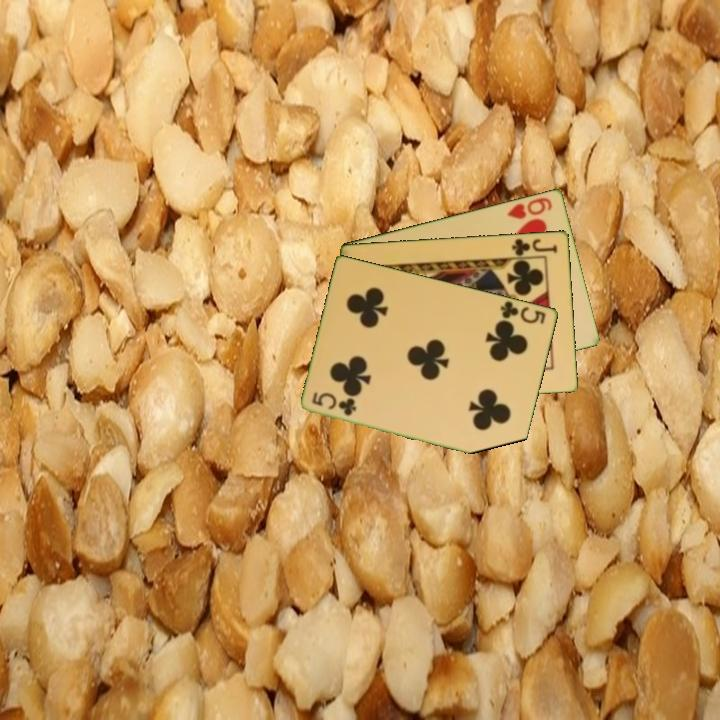5c: (497, 297, 549, 327), (309, 388, 360, 418)
6h: (504, 193, 555, 222)
Jc: (509, 235, 561, 258)
